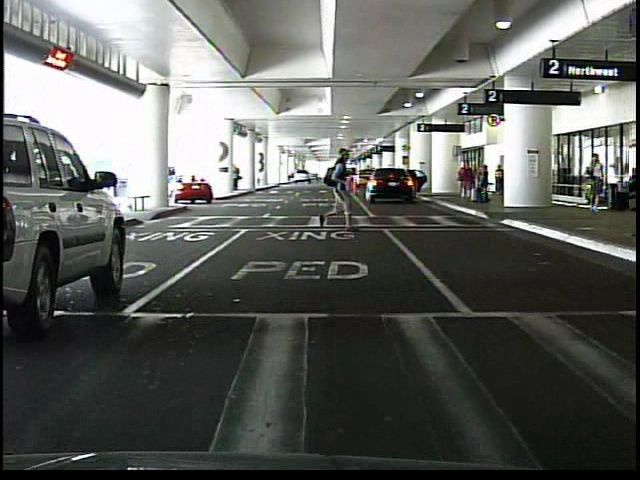person: (312, 150, 360, 232), (585, 154, 601, 214), (457, 160, 478, 202), (478, 166, 491, 201), (494, 164, 505, 193), (232, 164, 242, 191)
